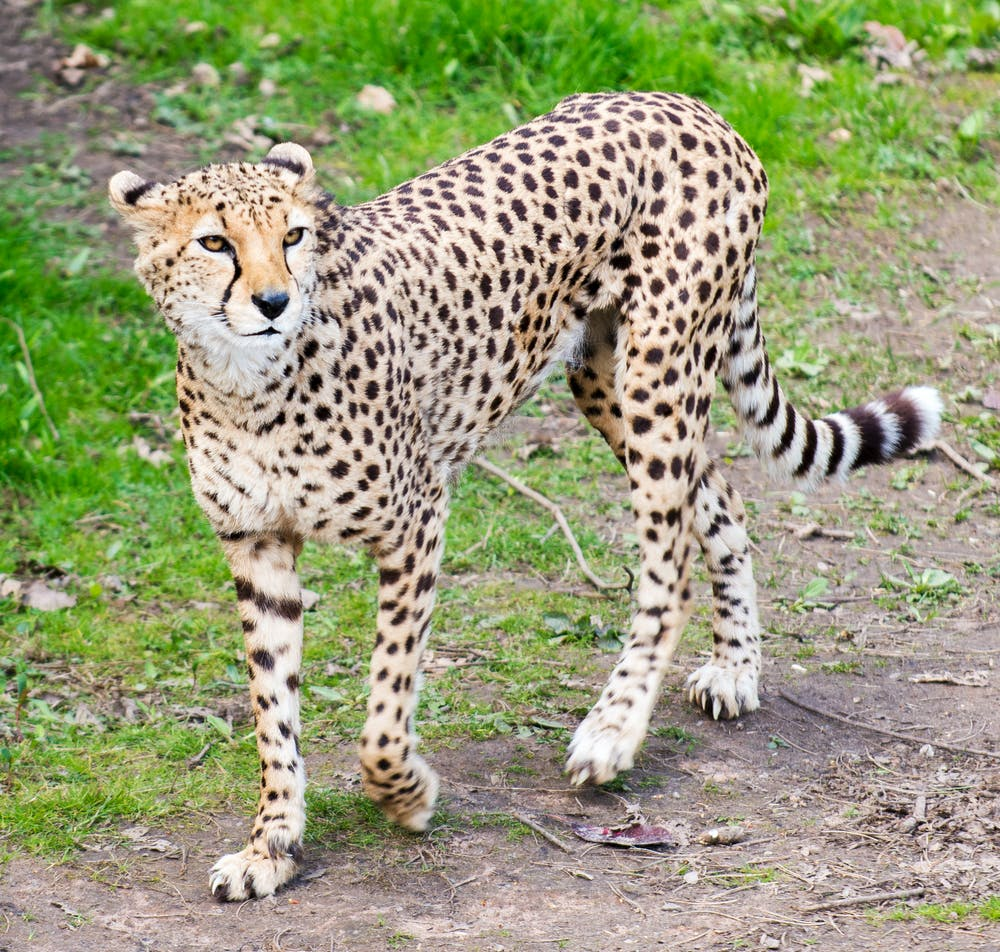cheetah: (86, 134, 335, 389)
